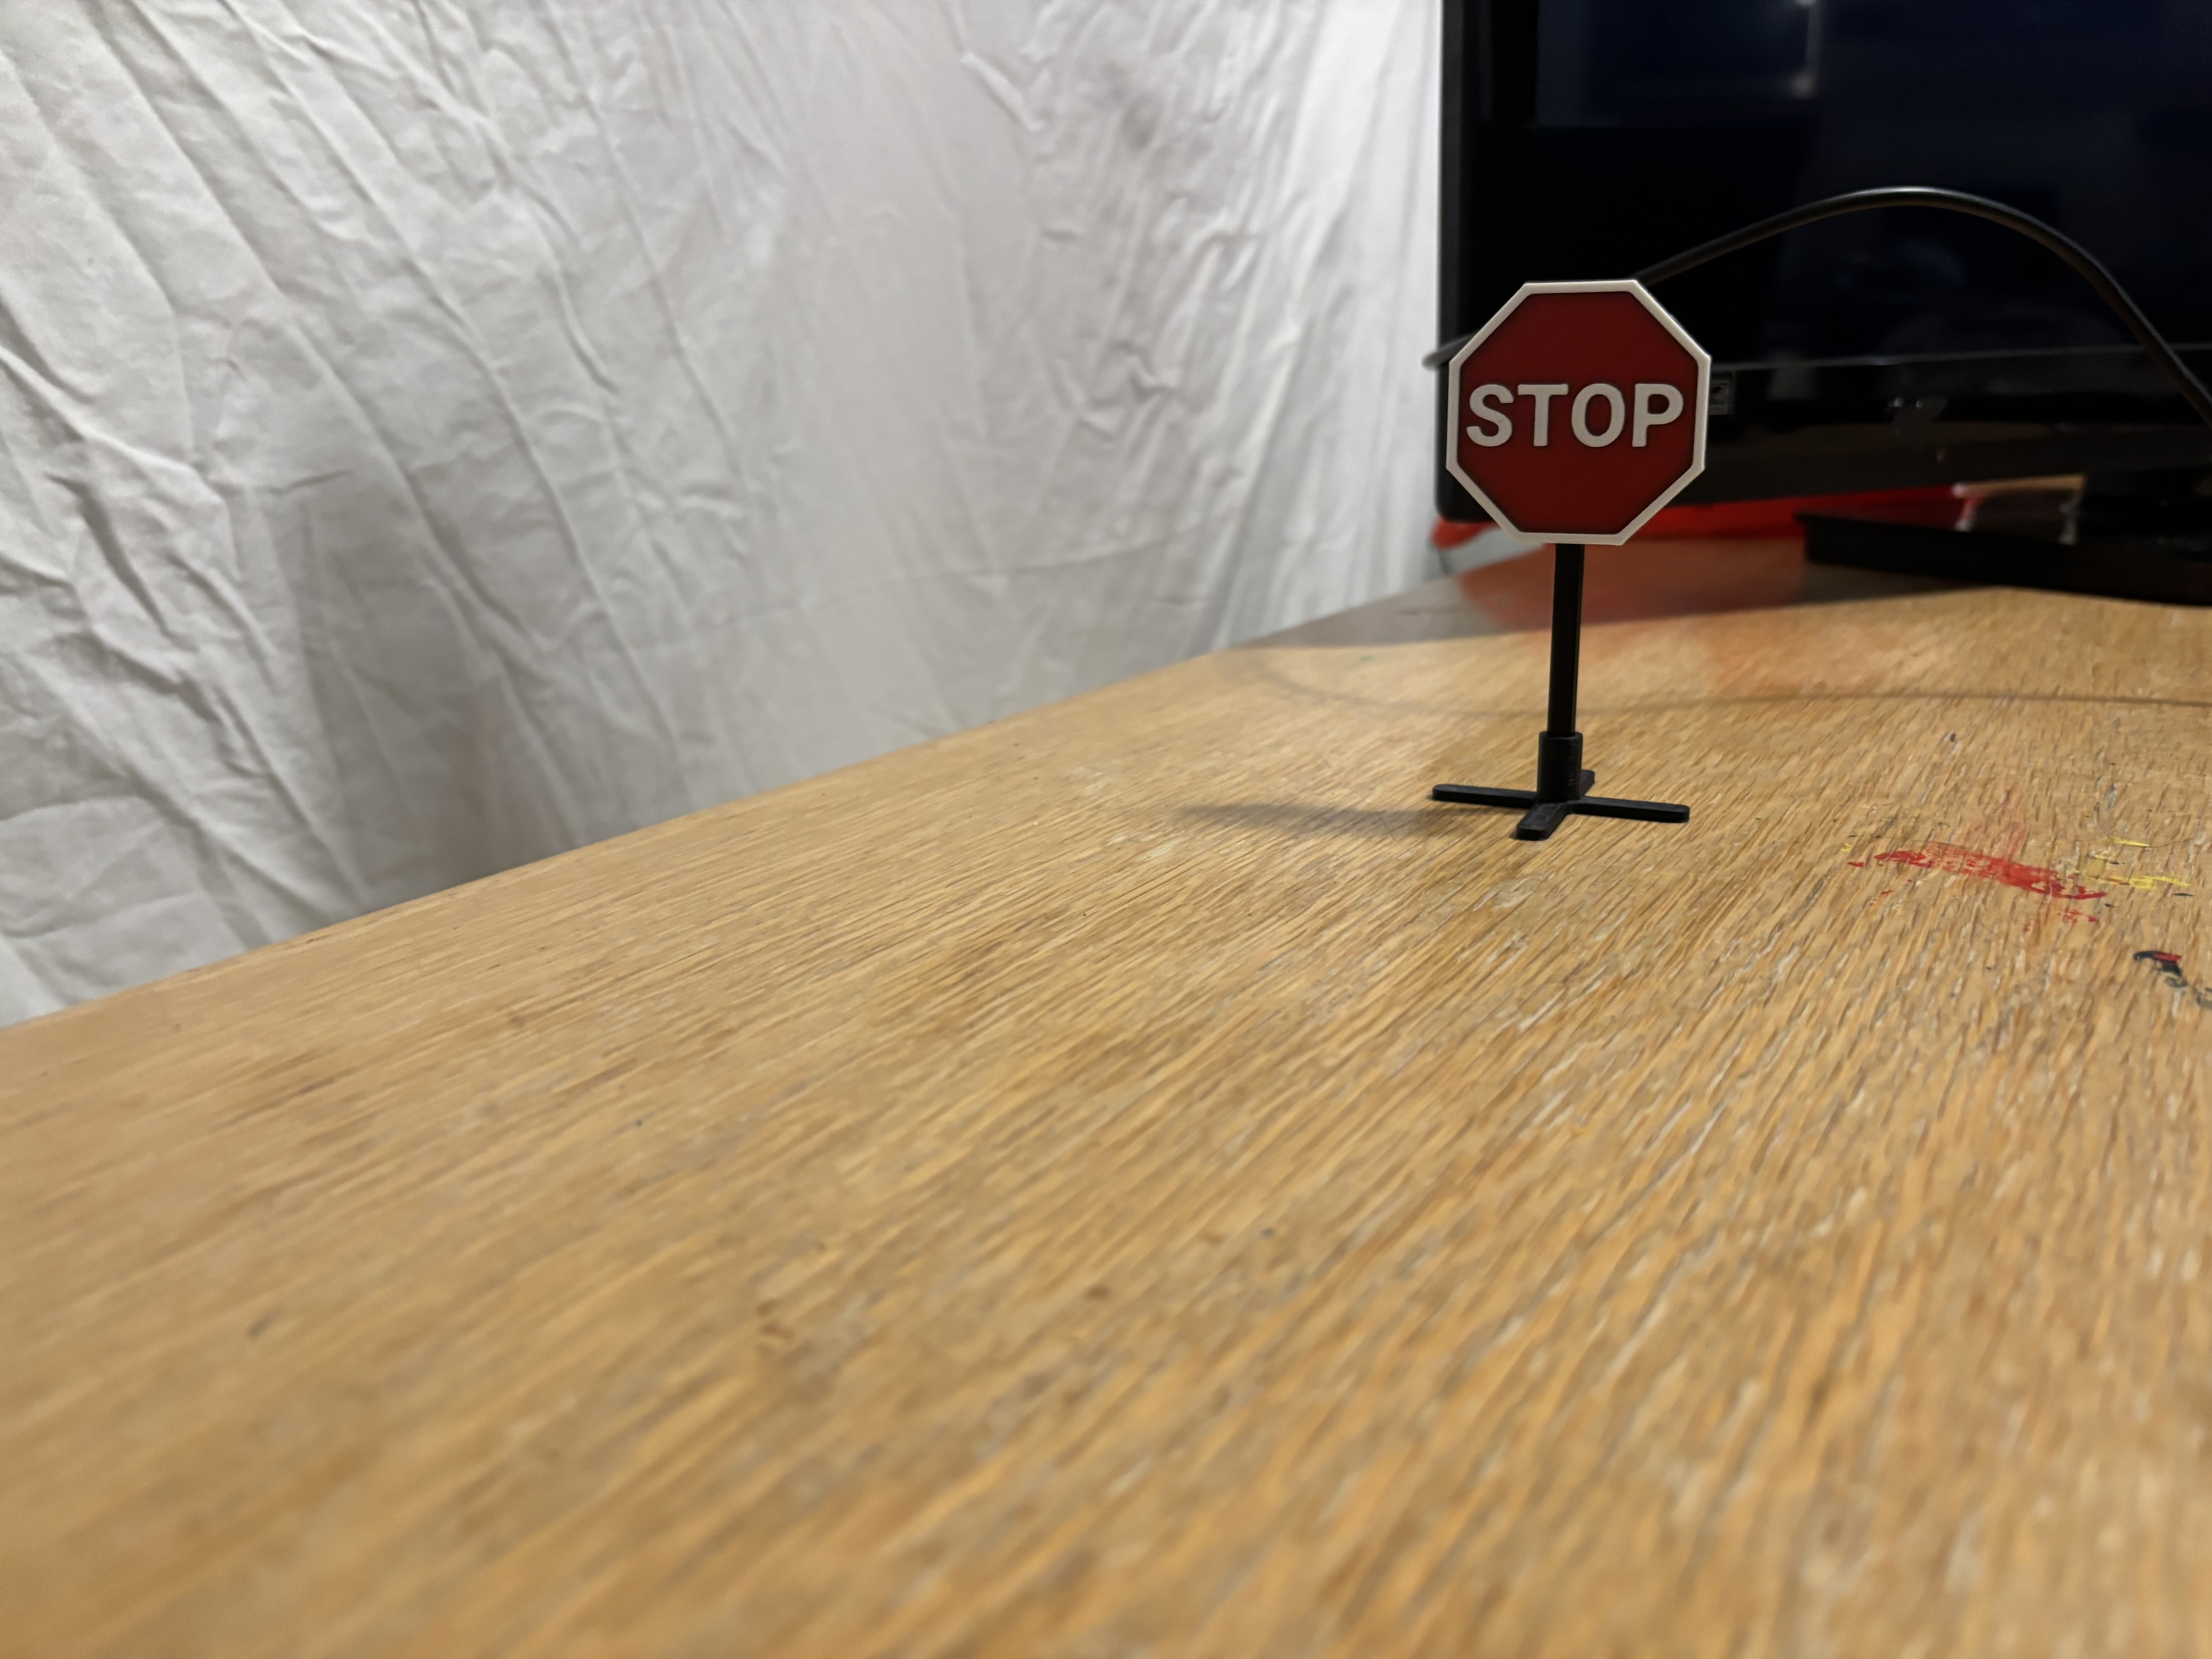sign_stop: (1432, 270, 1719, 551)
